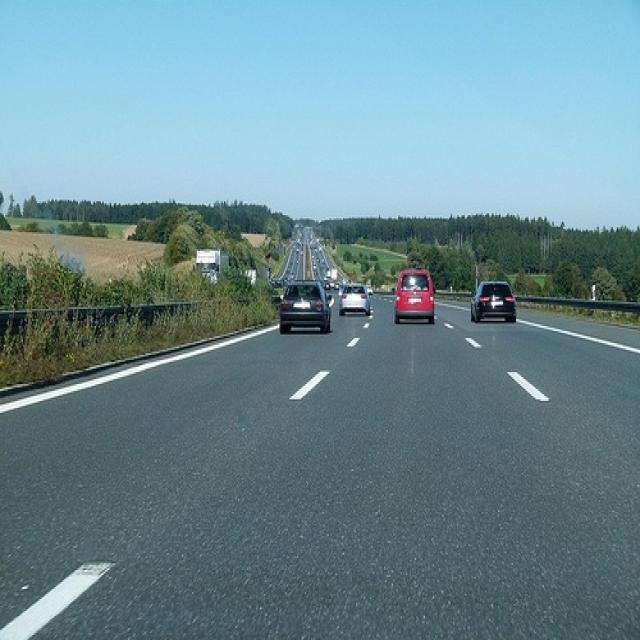Carro Prata: (341, 282, 374, 316)
Carro Preto: (280, 281, 330, 336), (466, 281, 524, 326)
Carro Vermelho: (393, 270, 436, 324)
